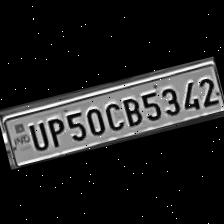0: (80, 103, 107, 138)
2: (192, 72, 218, 108)
3: (156, 82, 182, 118)
4: (175, 76, 201, 114)
5: (60, 107, 88, 144), (136, 86, 162, 122)
B: (117, 92, 143, 127)
C: (100, 97, 126, 133)
P: (41, 112, 68, 148)
U: (22, 117, 50, 153)
